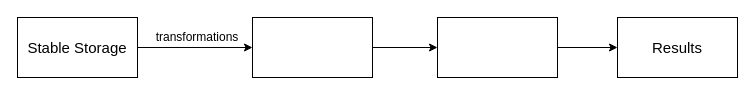
Some shapes in this 755 by 95 pixel diagram are drawn without their labels. Each missing label, with the centre of its shape:
Actions: point (497, 47)
RDDs: point (312, 47)
